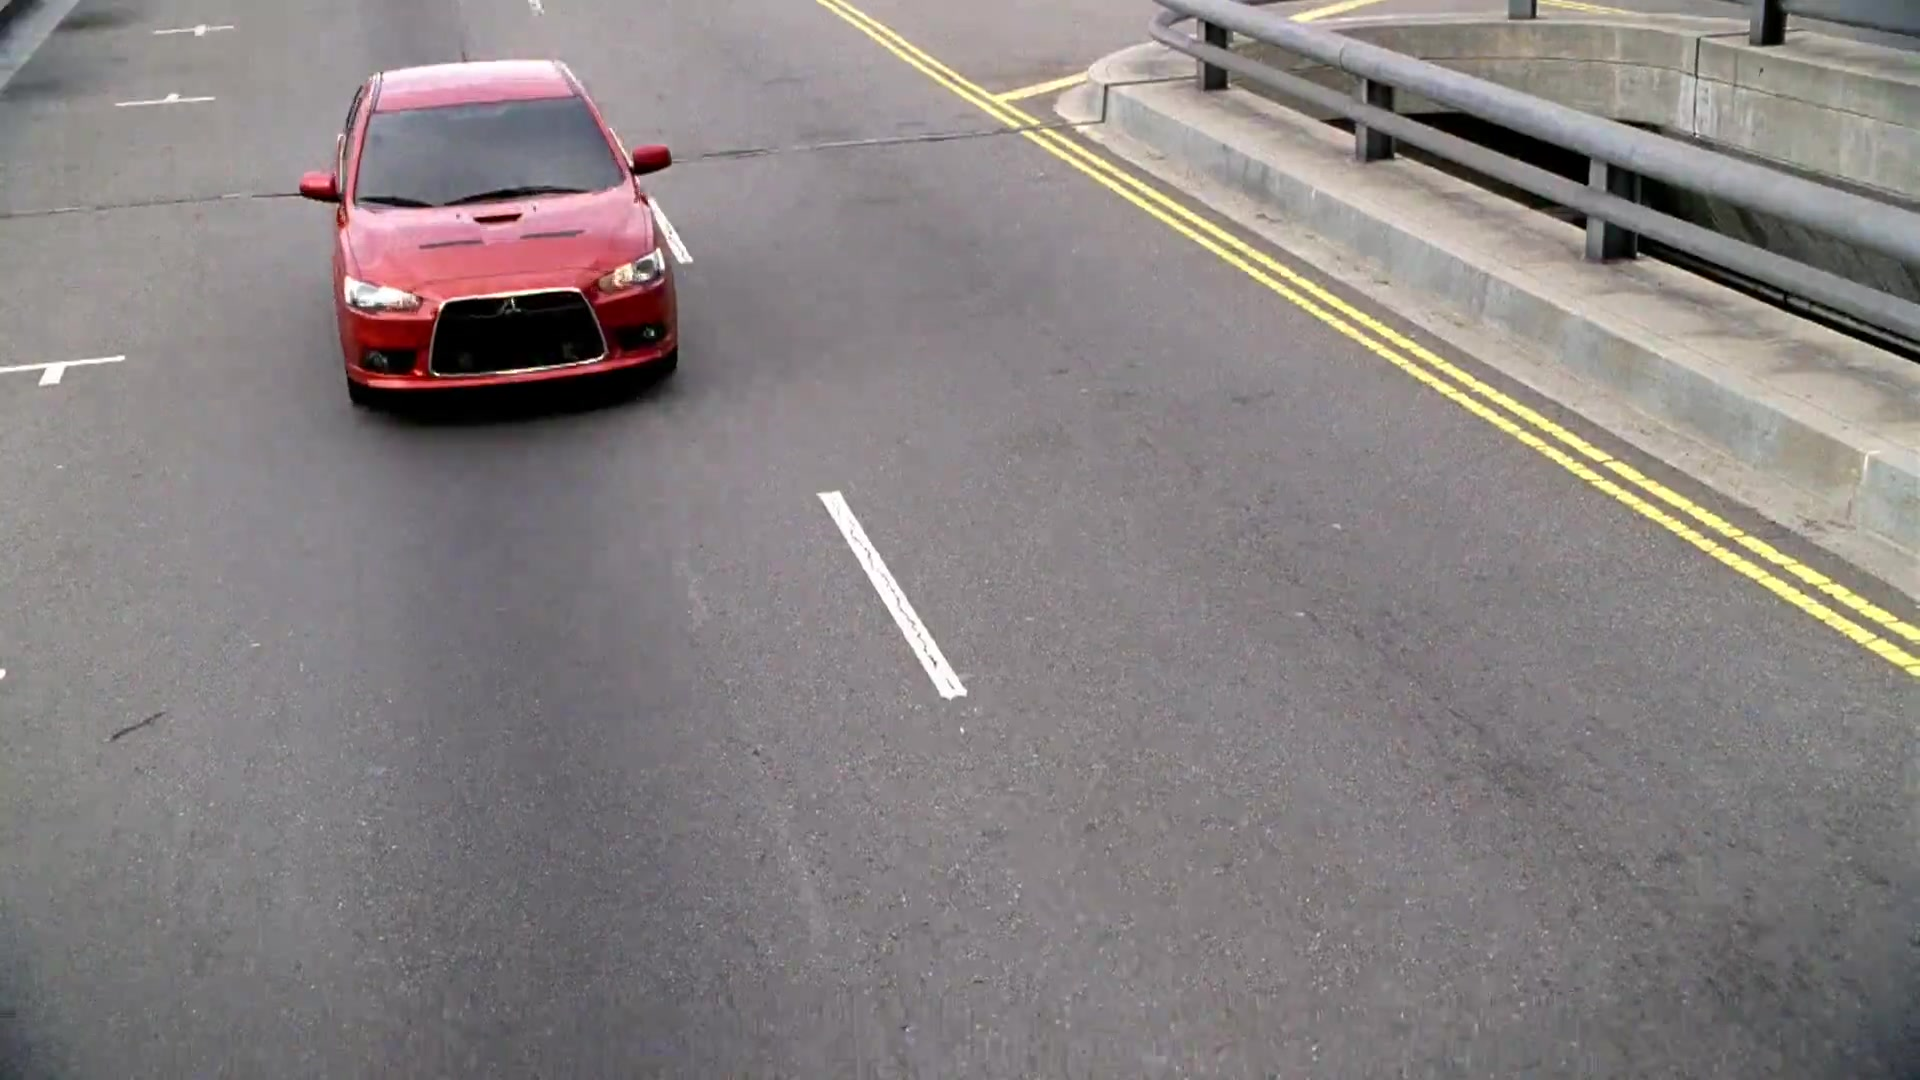car: (298, 51, 688, 425)
